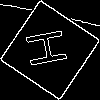H: (25, 25, 77, 69)
